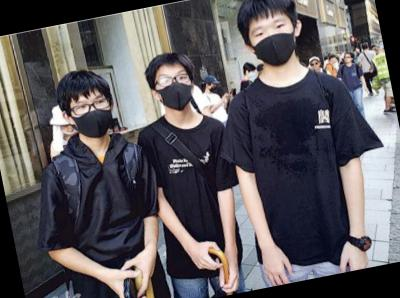mask_weared_incorrect: (61, 121, 79, 141)
with_mask: (247, 14, 303, 71), (70, 91, 118, 142), (156, 67, 198, 114), (209, 81, 220, 95), (248, 69, 259, 80)
without_mask: (311, 58, 323, 73), (343, 52, 355, 64)
